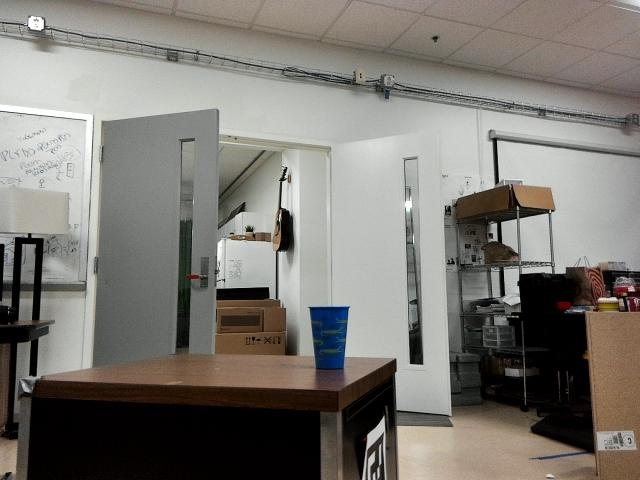water_cup: (306, 304, 353, 375)
